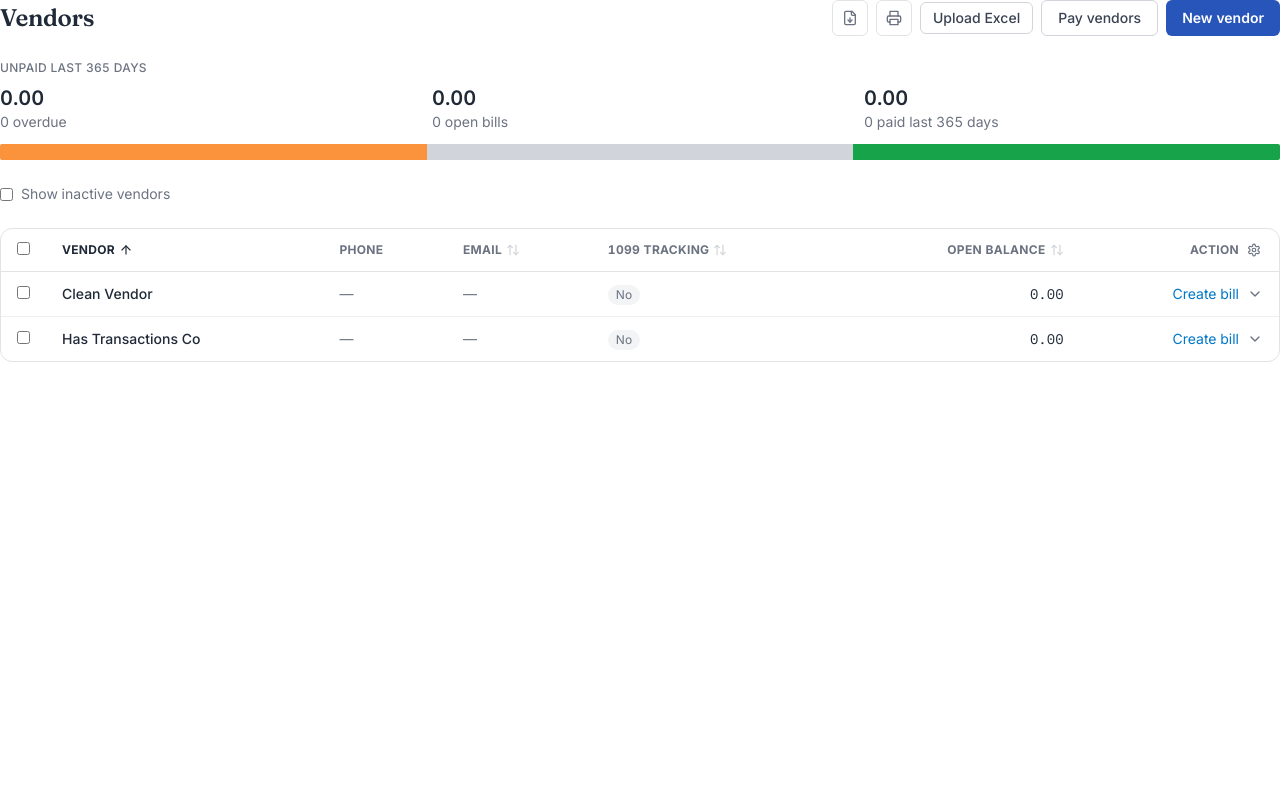
Test case: VendorListPage › the gear beside Action opens the table settings
This screenshot has width=1280, height=800.
expect the column heading named "Table settings" is shown: met, box [1080, 229, 1279, 272]
Step 1. Click the button named "Table settings" → {"x": 1254, "y": 250}, box [1245, 241, 1263, 259]
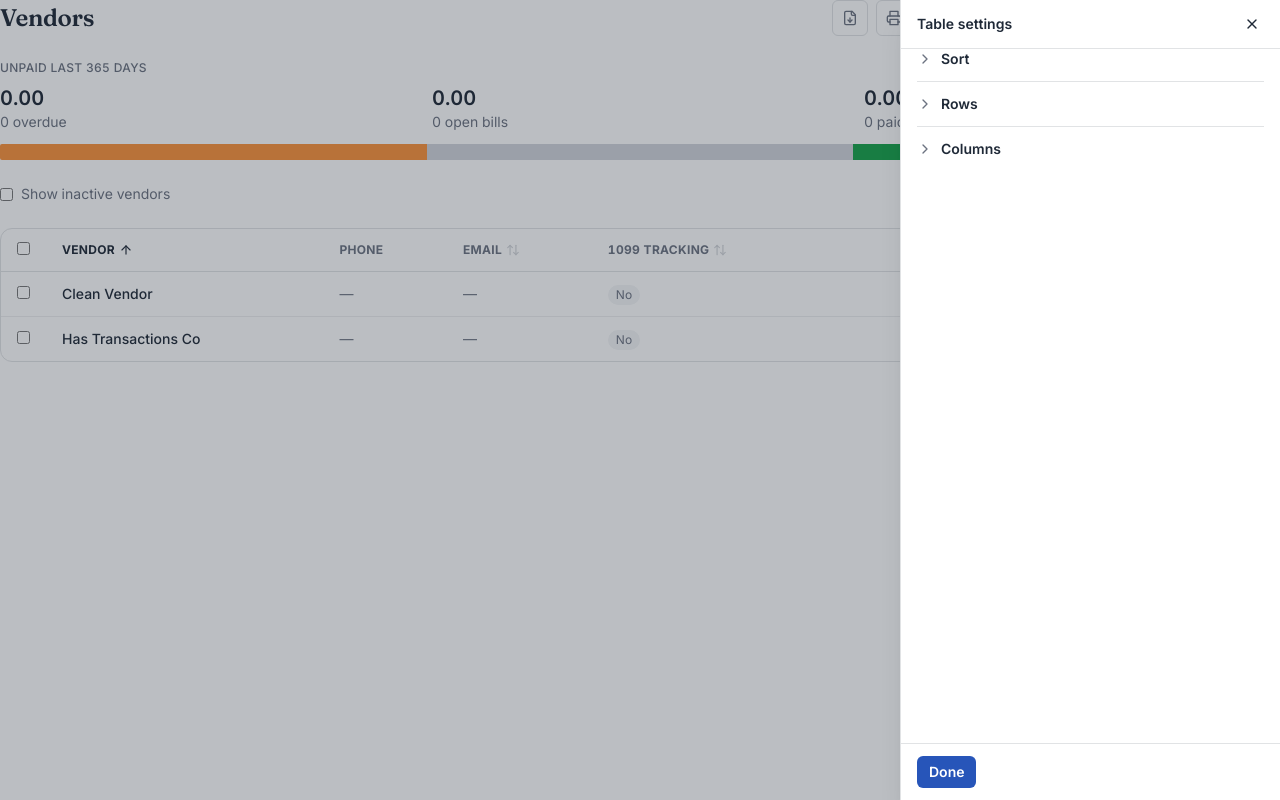
expect the heading "Table settings" is shown: met, box [917, 14, 1012, 34]
